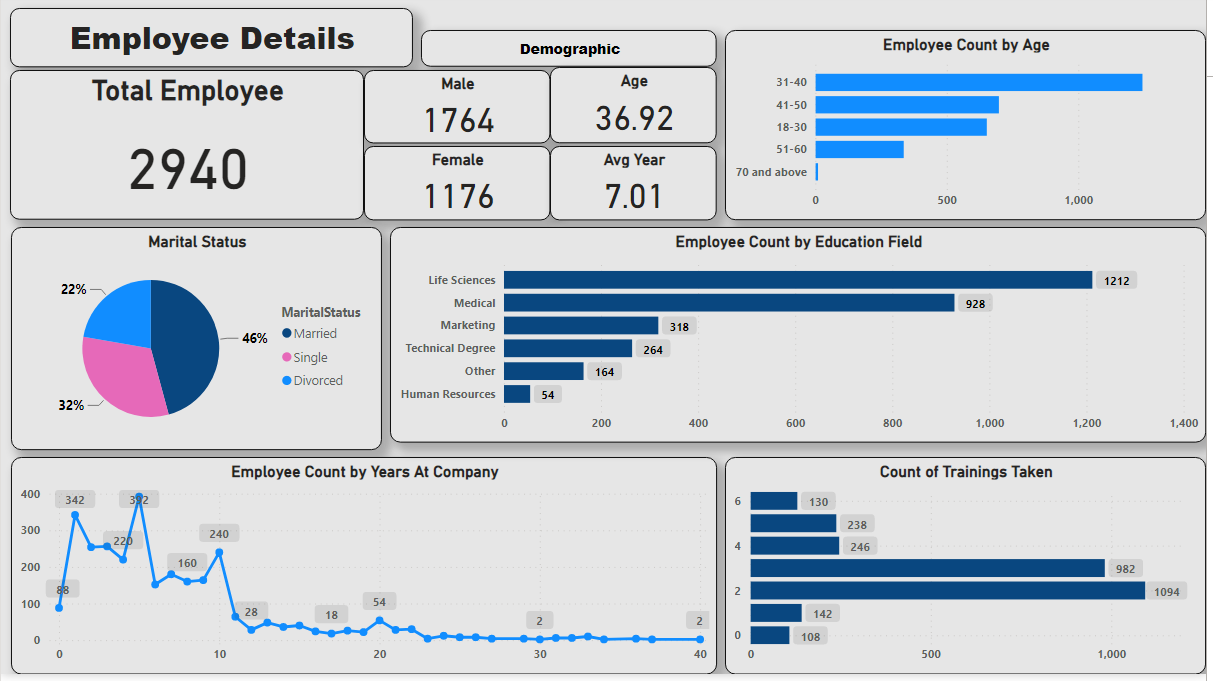

What the dashboard file says about the page in this screenshot:
{"tool":"powerbi","page":{"name":"Employee Details","canvas":[1280,720],"ordinal":0},"visuals":[{"type":"textbox","box":[9.6,12.7,428.1,62.7],"z":0},{"type":"card","title":"Total Employee","fields":{"Values":["HR_Employee_Attrition_Data.Total_count"]},"box":[9.6,78.6,376,159.3],"z":1000},{"type":"textbox","box":[446.1,36.1,314.4,39.3],"z":2000},{"type":"card","title":"Male","fields":{"Values":["CountNonNull(HR_Employee_Attrition_Data.Gender)"]},"box":[385.6,78.6,197.6,77.5],"z":3000},{"type":"card","title":"Female","fields":{"Values":["CountNonNull(HR_Employee_Attrition_Data.Gender)"]},"box":[385.6,159.3,197.6,78.6],"z":4000},{"type":"card","title":"Age","fields":{"Values":["Avg(HR_Employee_Attrition_Data.Age)"]},"box":[583.2,75.4,177.4,80.7],"z":5000},{"type":"card","title":"Avg Year","fields":{"Values":["Avg(HR_Employee_Attrition_Data.YearsAtCompany)"]},"box":[583.2,159.3,177.4,78.6],"z":6000},{"type":"pieChart","title":"Marital Status ","fields":{"Category":["HR_Employee_Attrition_Data.MaritalStatus"],"Y":["CountNonNull(HR_Employee_Attrition_Data.MaritalStatus)"]},"box":[10.6,245.4,394.1,236.9],"z":7000},{"type":"lineChart","title":"Employee Count by Years At Company","fields":{"Category":["HR_Employee_Attrition_Data.YearsAtCompany"],"Y":["CountNonNull(HR_Employee_Attrition_Data.YearsAtCompany)"]},"box":[10.6,489.7,749.9,230.5],"z":8000},{"type":"barChart","title":"Employee Count by Age ","fields":{"Category":["HR_Employee_Attrition_Data.Age Bin"],"Y":["CountNonNull(HR_Employee_Attrition_Data.Age Bin)"]},"box":[769.1,36.1,510.9,201.8],"z":9000},{"type":"barChart","title":"Employee Count by Education Field ","fields":{"Category":["HR_Employee_Attrition_Data.EducationField"],"Y":["CountNonNull(HR_Employee_Attrition_Data.EducationField)"]},"box":[413.2,245.4,866.8,229.4],"z":10000},{"type":"barChart","title":"Count of Trainings Taken ","fields":{"Category":["HR_Employee_Attrition_Data.TrainingTimesLastYear"],"Y":["CountNonNull(HR_Employee_Attrition_Data.TrainingTimesLastYear)"]},"box":[769.1,489.7,510.9,230.5],"z":11000}]}

Visuals, with their boxes in screenshot pixels (x1, y1, x2, y2), scaled from the page's 1280x720 canvas onto the 1213x681 screenshot:
textbox: <region>9, 12, 415, 71</region>
"Total Employee" card: <region>9, 74, 365, 225</region>
textbox: <region>423, 34, 721, 71</region>
"Male" card: <region>365, 74, 553, 148</region>
"Female" card: <region>365, 151, 553, 225</region>
"Age" card: <region>553, 71, 721, 148</region>
"Avg Year" card: <region>553, 151, 721, 225</region>
"Marital Status " pieChart: <region>10, 232, 384, 456</region>
"Employee Count by Years At Company" lineChart: <region>10, 463, 721, 680</region>
"Employee Count by Age " barChart: <region>729, 34, 1212, 225</region>
"Employee Count by Education Field " barChart: <region>392, 232, 1212, 449</region>
"Count of Trainings Taken " barChart: <region>729, 463, 1212, 680</region>
